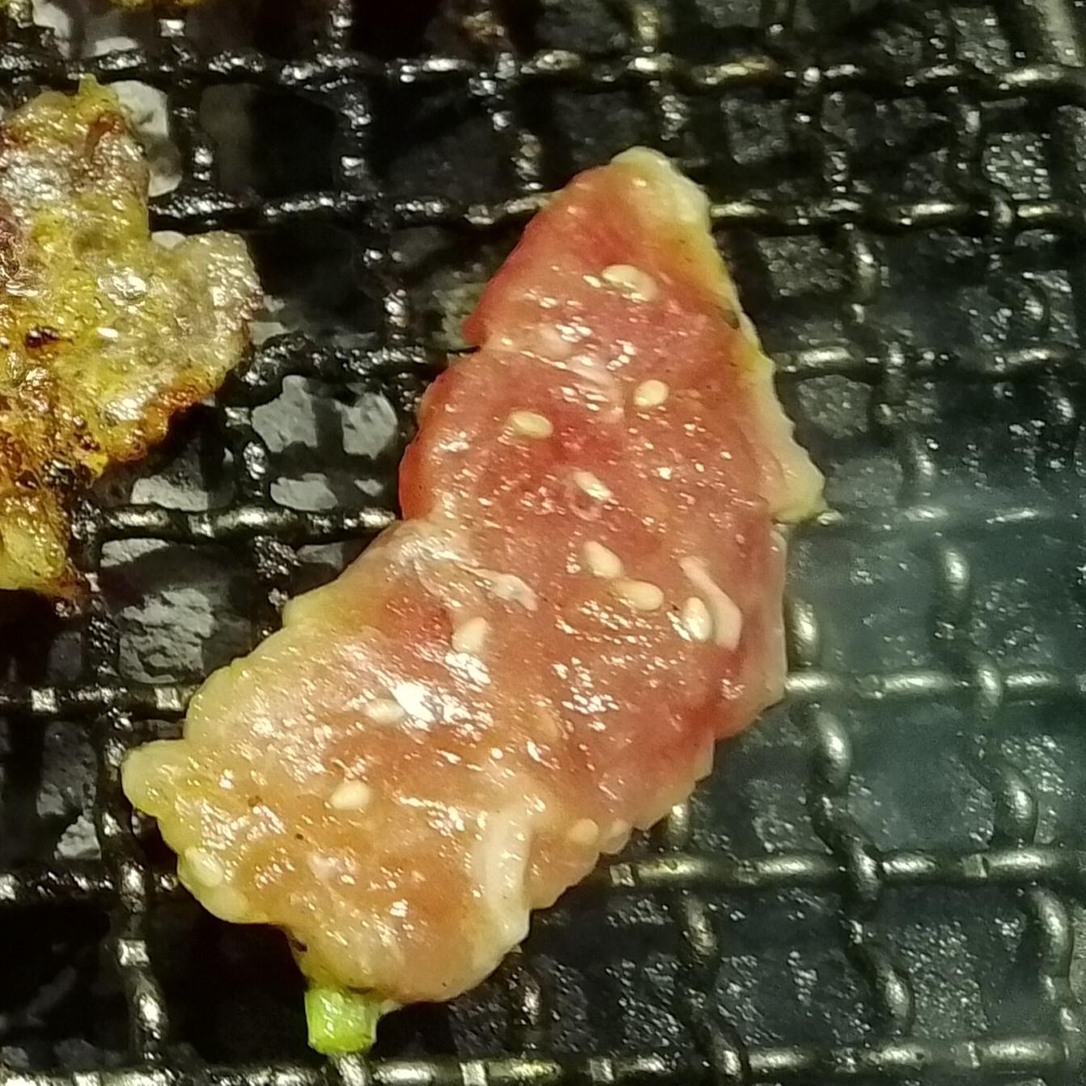Overcooked: (0, 9, 264, 610)
Undercooked: (117, 146, 827, 1059)
